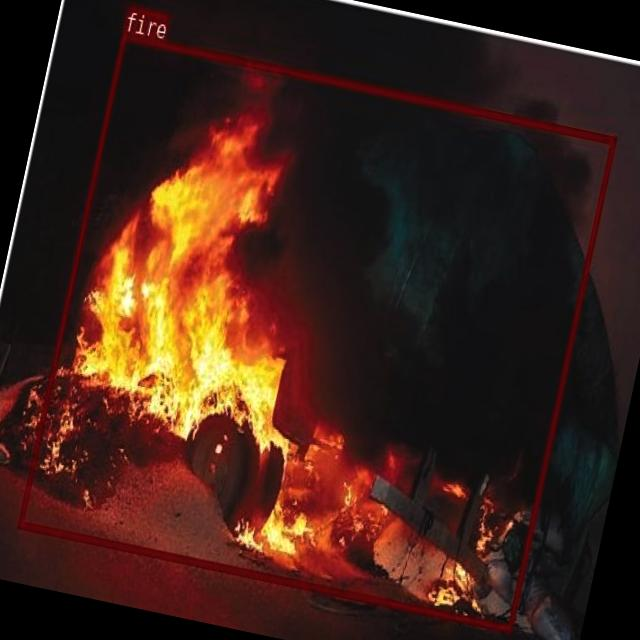fire: (17, 31, 616, 632)
